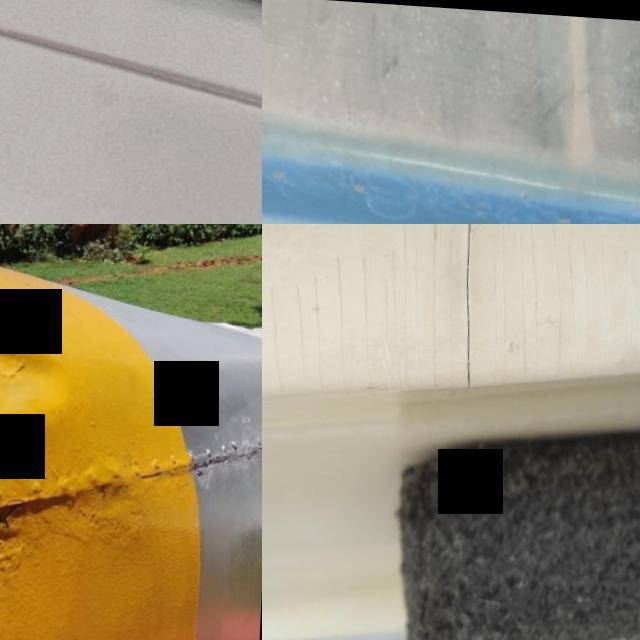Crack: (388, 224, 425, 388), (361, 242, 379, 388), (335, 250, 351, 387), (553, 224, 567, 373), (312, 269, 329, 390), (465, 224, 477, 387), (432, 224, 443, 389), (530, 224, 543, 348), (503, 224, 512, 379)
Dent: (0, 287, 90, 446)
